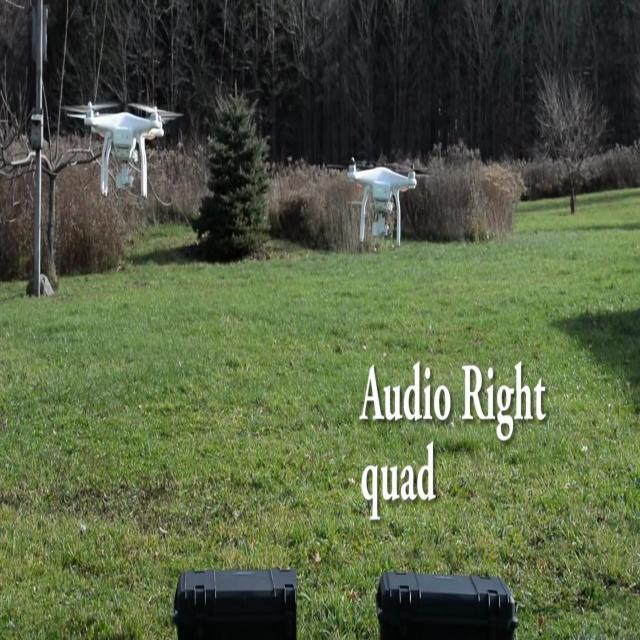drone: (60, 97, 184, 201), (323, 156, 432, 251)
